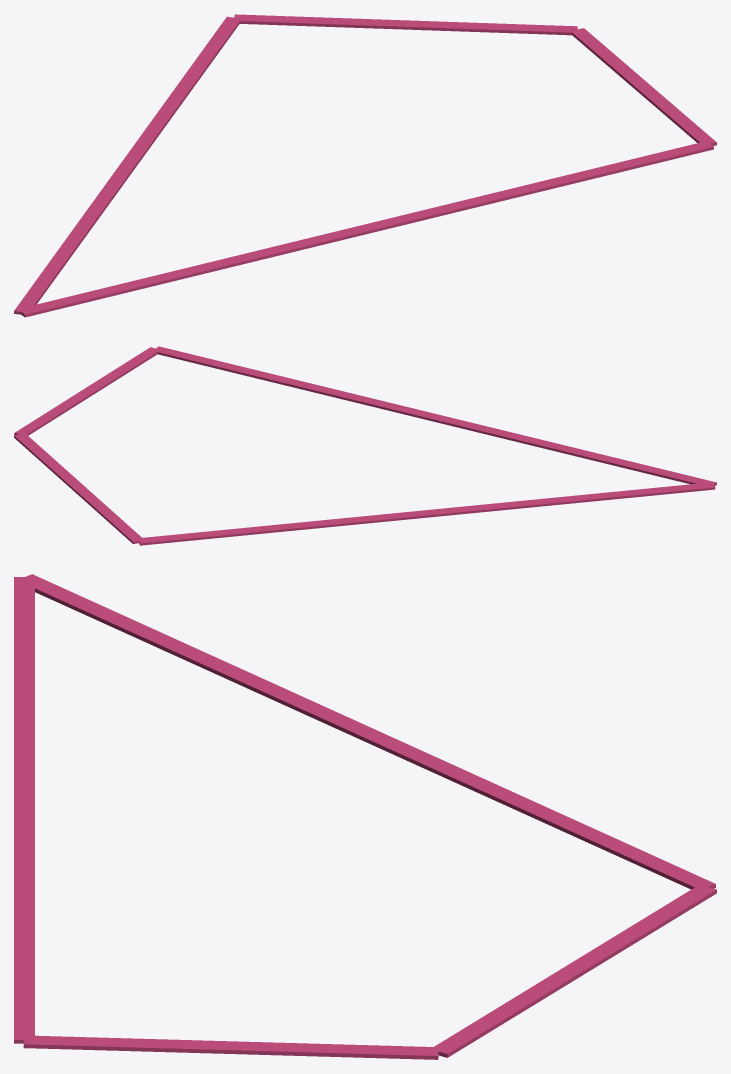
Rendered from augharnath-temple.glb.
3 renders of one model, top to bottom at view 1: azimuth 30°, elevation 25°; view 2: azimuth 150°, elevation 25°; view 3: azimuth 270°, elevation 25°, orthographic. The views are drawn at different scales.
Visible parts, largest first — view 1: NCR_augharnath-temple; view 2: NCR_augharnath-temple; view 3: NCR_augharnath-temple.
Part boxes in pixels (x1,y1,x2,y2): NCR_augharnath-temple: [14, 14, 716, 317]; NCR_augharnath-temple: [14, 346, 716, 545]; NCR_augharnath-temple: [14, 574, 716, 1059].
Size of the model in its own units: 108 by 0.4 by 66.74.
